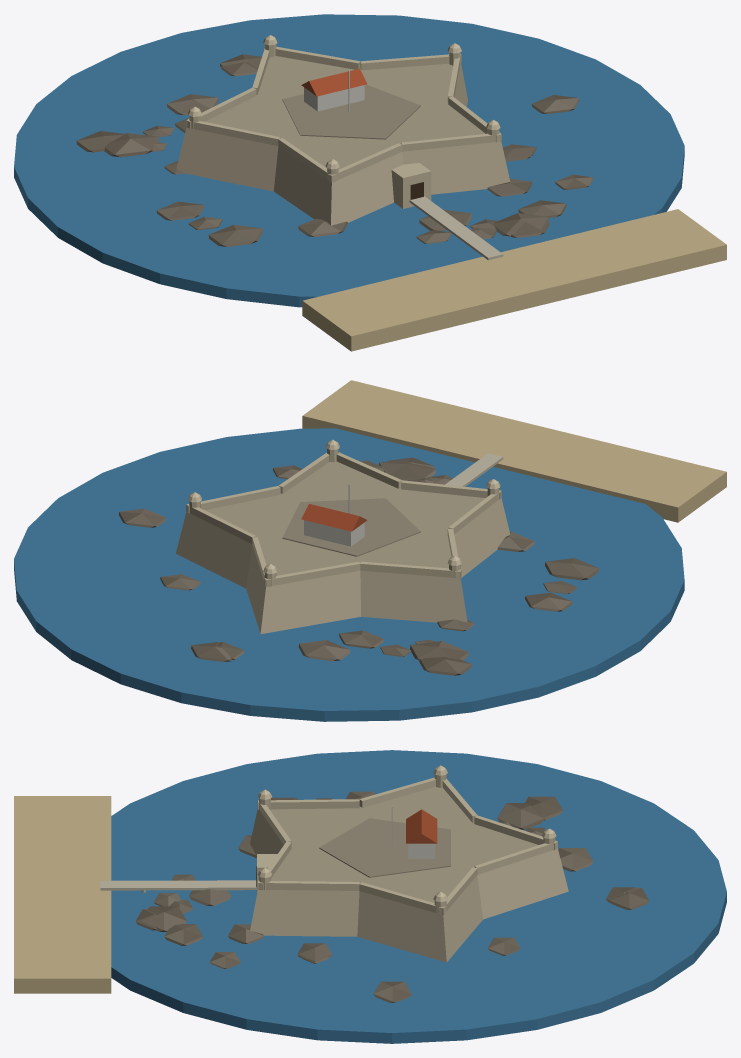
The model's file is forte_reis_magos.glb.
3 views of the same model, one above another, from view 1: azimuth 30°, elevation 25°; view 2: azimuth 150°, elevation 25°; view 3: azimuth 270°, elevation 25° (orthographic).
Parts seen in each view (by area): view 1: forte_reis_magos; view 2: forte_reis_magos; view 3: forte_reis_magos.
Part boxes in pixels (<box>): forte_reis_magos: <box>14,14,726,351</box>; forte_reis_magos: <box>14,380,726,721</box>; forte_reis_magos: <box>14,750,726,1043</box>.
Size of the model in its own units: 124 by 19.5 by 132.
